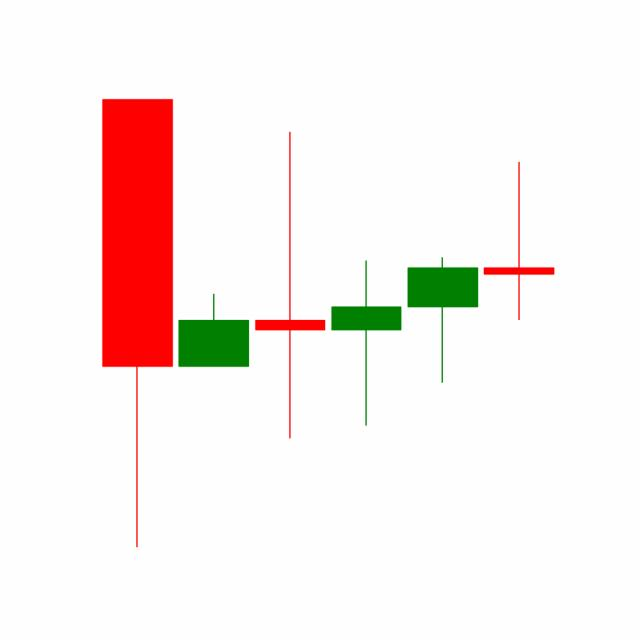Hanging Man: (403, 255, 481, 385)
